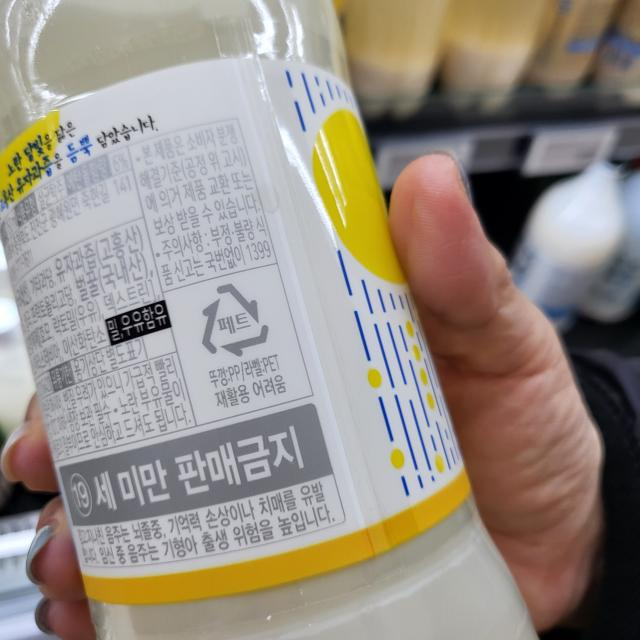PET: (197, 280, 273, 357)
